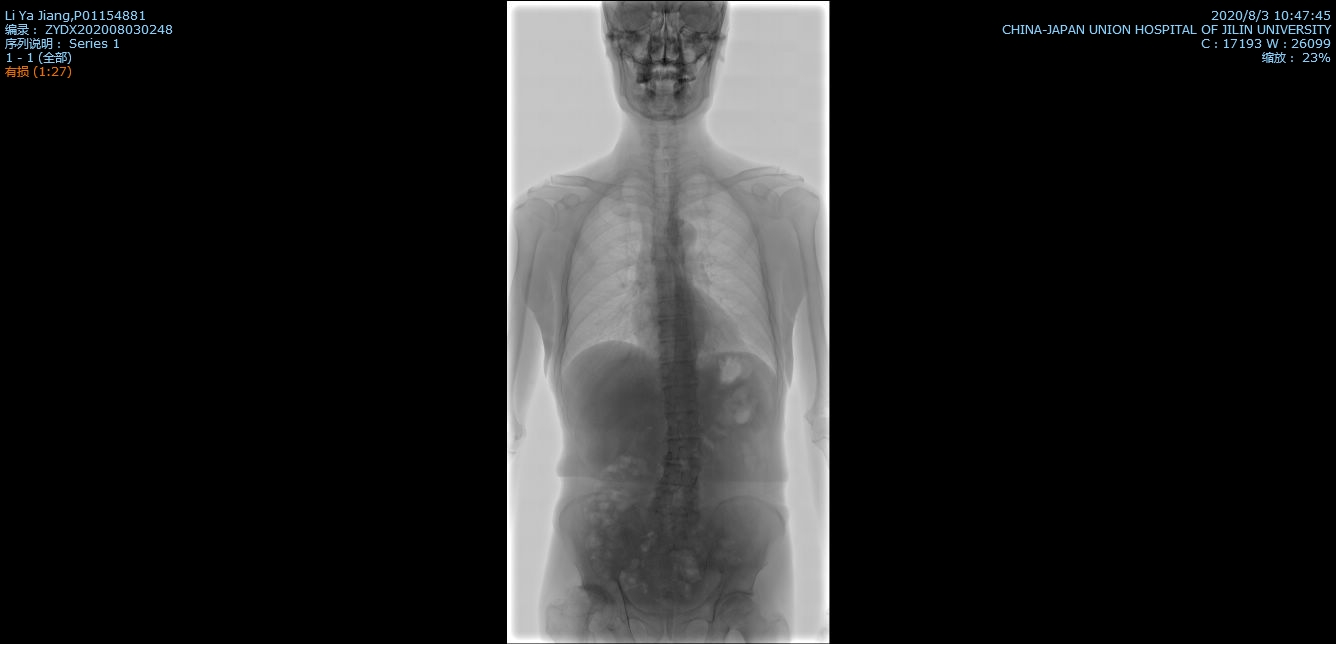Bone: (664, 463, 700, 486), (658, 489, 693, 511), (663, 387, 699, 407), (666, 412, 698, 433), (667, 440, 701, 459), (662, 363, 697, 380), (659, 341, 692, 359), (657, 280, 688, 298), (659, 301, 689, 317), (661, 320, 689, 336)
